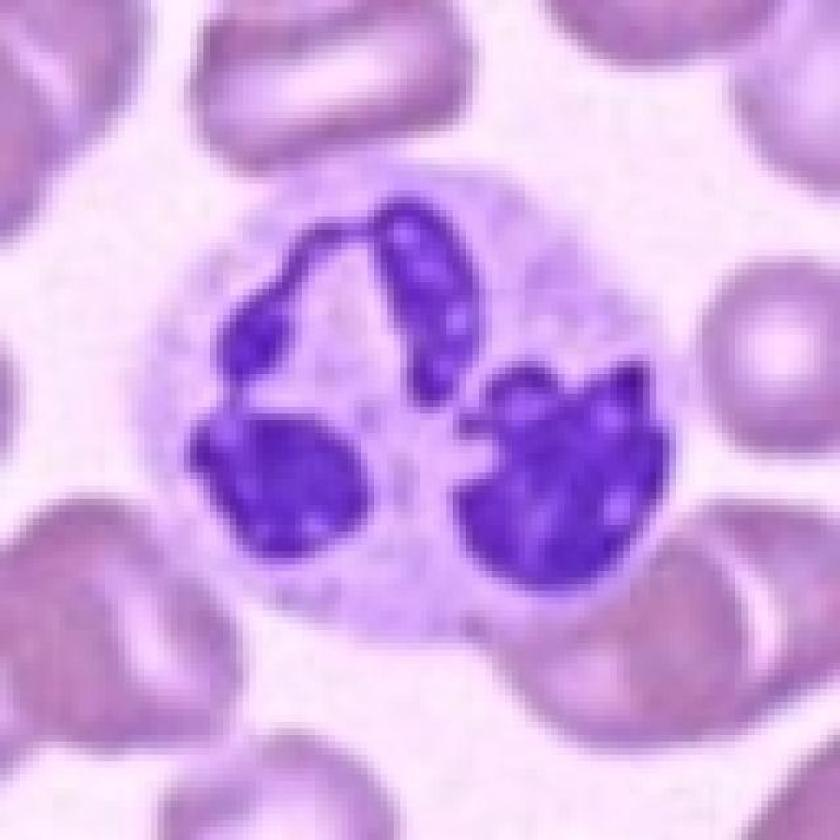neutrophil: (126, 153, 685, 662)
